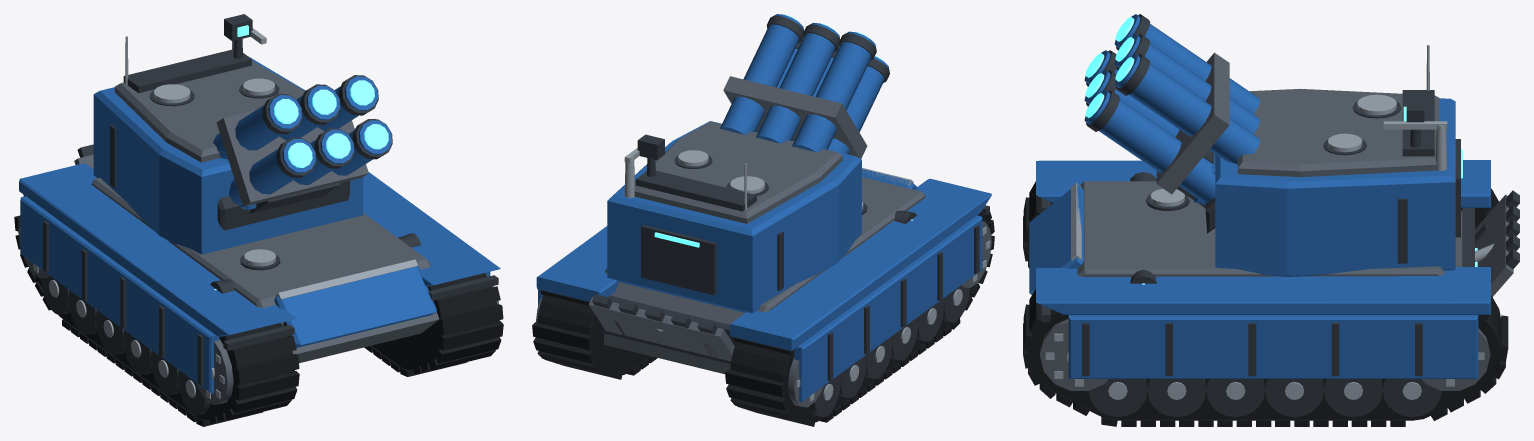
The model's file is kestrel-bombard-artillery.glb.
3 views of the same model, side by side, from view 1: azimuth 30°, elevation 25°; view 2: azimuth 150°, elevation 25°; view 3: azimuth 270°, elevation 25° (orthographic). The views are drawn at different scales.
Visible parts, largest first — view 1: glacis_plate, hull_body, light_hood_l, track_belt, glacis_ridge, bow_glow; view 2: glacis_plate, hull_body, light_hood_l, track_belt, glacis_ridge; view 3: glacis_plate, hull_body, light_hood_l, track_belt, glacis_ridge, bow_glow.
Boxes of the visible parts, x1,y1,x2,y2 form: glacis_plate: (19,56,500,393); hull_body: (18,61,499,404); light_hood_l: (41,14,498,415); track_belt: (14,194,503,426); glacis_ridge: (19,28,417,399); bow_glow: (214,25,388,290); glacis_plate: (536,14,991,401); hull_body: (536,76,991,407); light_hood_l: (592,15,989,417); track_belt: (532,212,994,426); glacis_ridge: (624,148,990,401); glacis_plate: (1029,14,1490,378); hull_body: (1040,52,1513,390); light_hood_l: (1041,14,1519,417); track_belt: (1023,181,1508,426); glacis_ridge: (1045,45,1494,399); bow_glow: (1085,17,1477,284).
Bounding box in the file's own units: 5.56 × 5.54 × 7.77.
